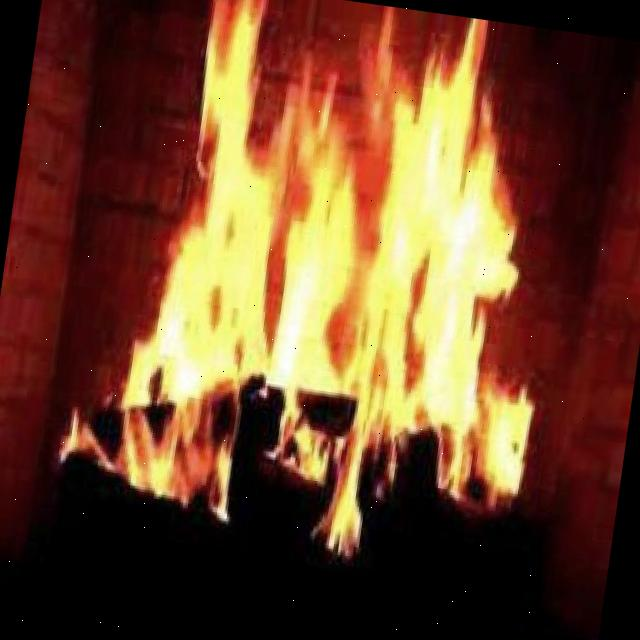fire: (152, 31, 570, 474)
